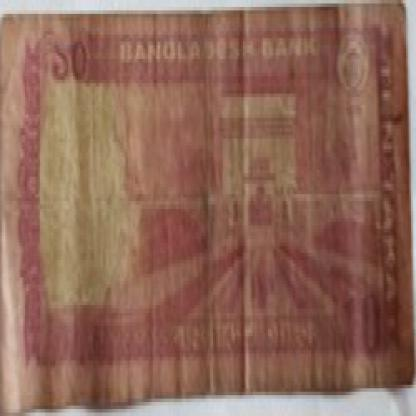Ten Taka: (341, 284, 385, 361), (45, 31, 96, 87)
